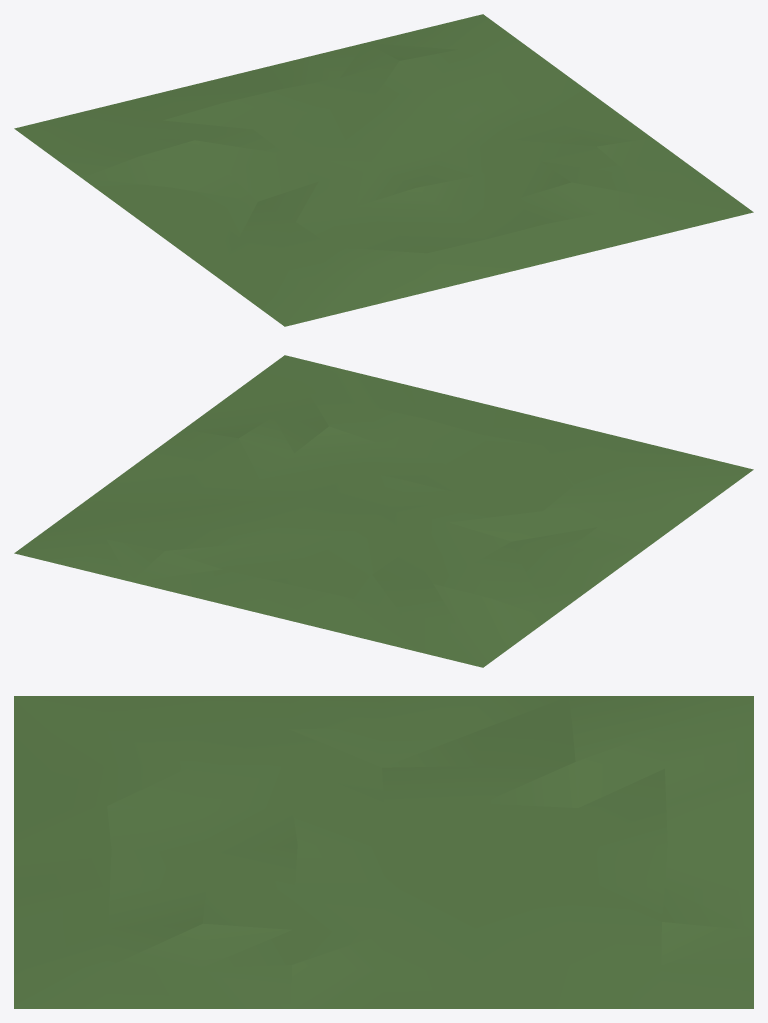
File: SM_Env_Grass_02.obj
3 renders of one model, top to bottom at view 1: azimuth 30°, elevation 25°; view 2: azimuth 150°, elevation 25°; view 3: azimuth 270°, elevation 25°, orthographic. The views are drawn at different scales.
Parts seen in each view (by area): view 1: SM_Env_Grass_02_0; view 2: SM_Env_Grass_02_0; view 3: SM_Env_Grass_02_0.
Part boxes in pixels (x1=…): SM_Env_Grass_02_0: x1=14, y1=14, x2=753, y2=326; SM_Env_Grass_02_0: x1=14, y1=355, x2=753, y2=667; SM_Env_Grass_02_0: x1=14, y1=696, x2=753, y2=1008.
Bounding box in the file's own units: 5 × 0.0818 × 5.
1 material, 1 textured.
